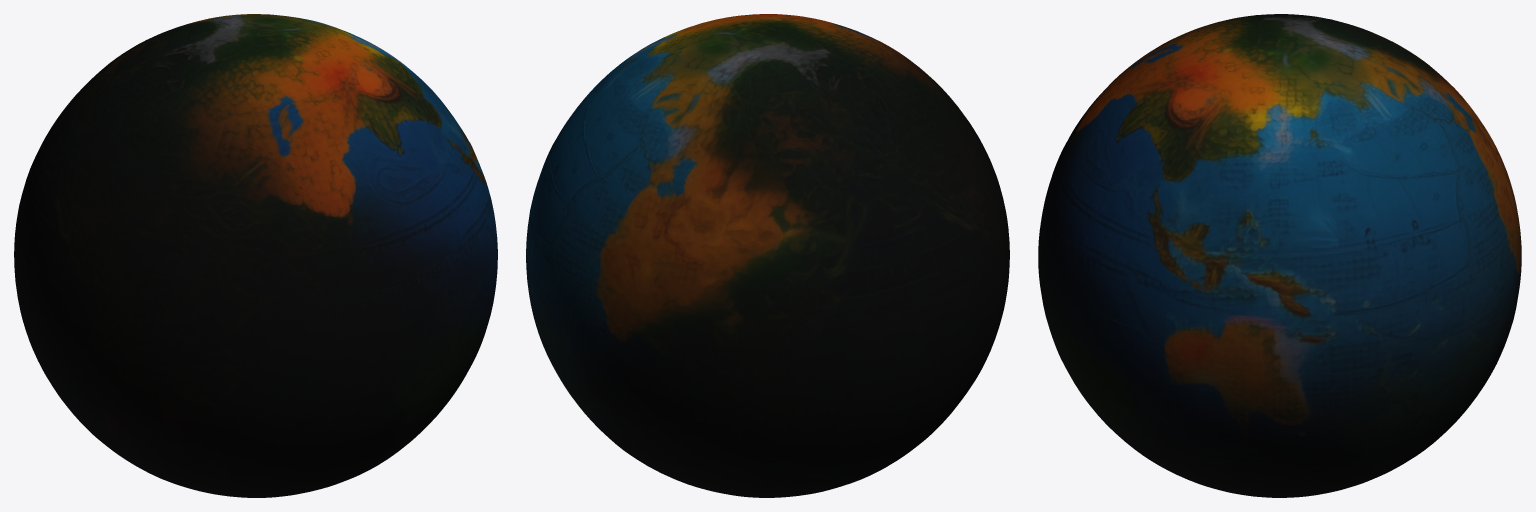
3 renders of one model, left to right at view 1: azimuth 30°, elevation 25°; view 2: azimuth 150°, elevation 25°; view 3: azimuth 270°, elevation 25°, orthographic.
Visible parts, largest first — view 1: world; view 2: world; view 3: world.
Boxes of the visible parts, <box> form: world: <box>14,14,497,497</box>; world: <box>526,14,1009,497</box>; world: <box>1038,14,1521,497</box>.
Size of the model in its own units: 0.9989 by 0.9988 by 0.9981.
1 material, 1 textured.
